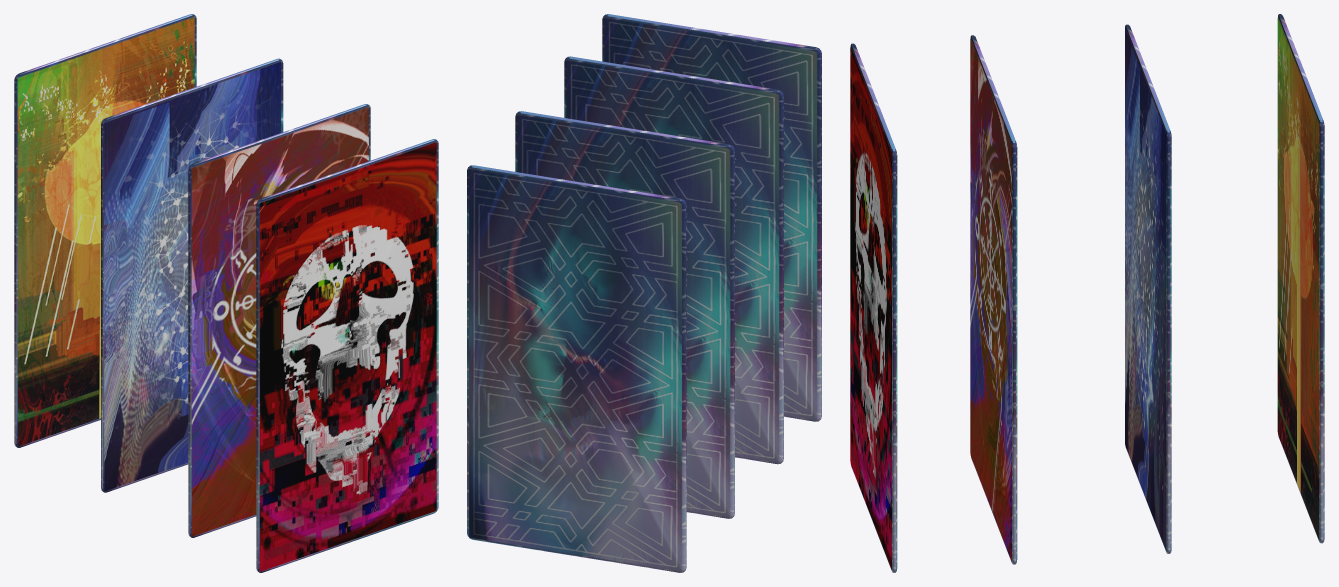
The model's file is card_01B.fbx.
3 views of the same model, side by side, from view 1: azimuth 30°, elevation 25°; view 2: azimuth 150°, elevation 25°; view 3: azimuth 270°, elevation 25° (orthographic). The views are drawn at different scales.
Parts seen in each view (by area): view 1: Cube, Cube_2, Cube_3, Cube_1; view 2: Cube_3, Cube_1, Cube_2, Cube; view 3: Cube_1, Cube_3, Cube, Cube_2.
Boxes of the visible parts, left/top/right/bottom form: Cube: left=256, top=139, right=438, bottom=572; Cube_2: left=101, top=58, right=283, bottom=492; Cube_3: left=14, top=14, right=196, bottom=447; Cube_1: left=188, top=104, right=370, bottom=537; Cube_3: left=467, top=165, right=686, bottom=572; Cube_1: left=564, top=56, right=783, bottom=464; Cube_2: left=515, top=111, right=734, bottom=518; Cube: left=602, top=14, right=821, bottom=421; Cube_1: left=970, top=35, right=1017, bottom=564; Cube_3: left=1277, top=14, right=1324, bottom=543; Cube: left=850, top=43, right=897, bottom=572; Cube_2: left=1125, top=24, right=1171, bottom=553.
Bounding box in the file's own units: 241 × 339 × 344.
Materials: 4 (4 with a texture image).
